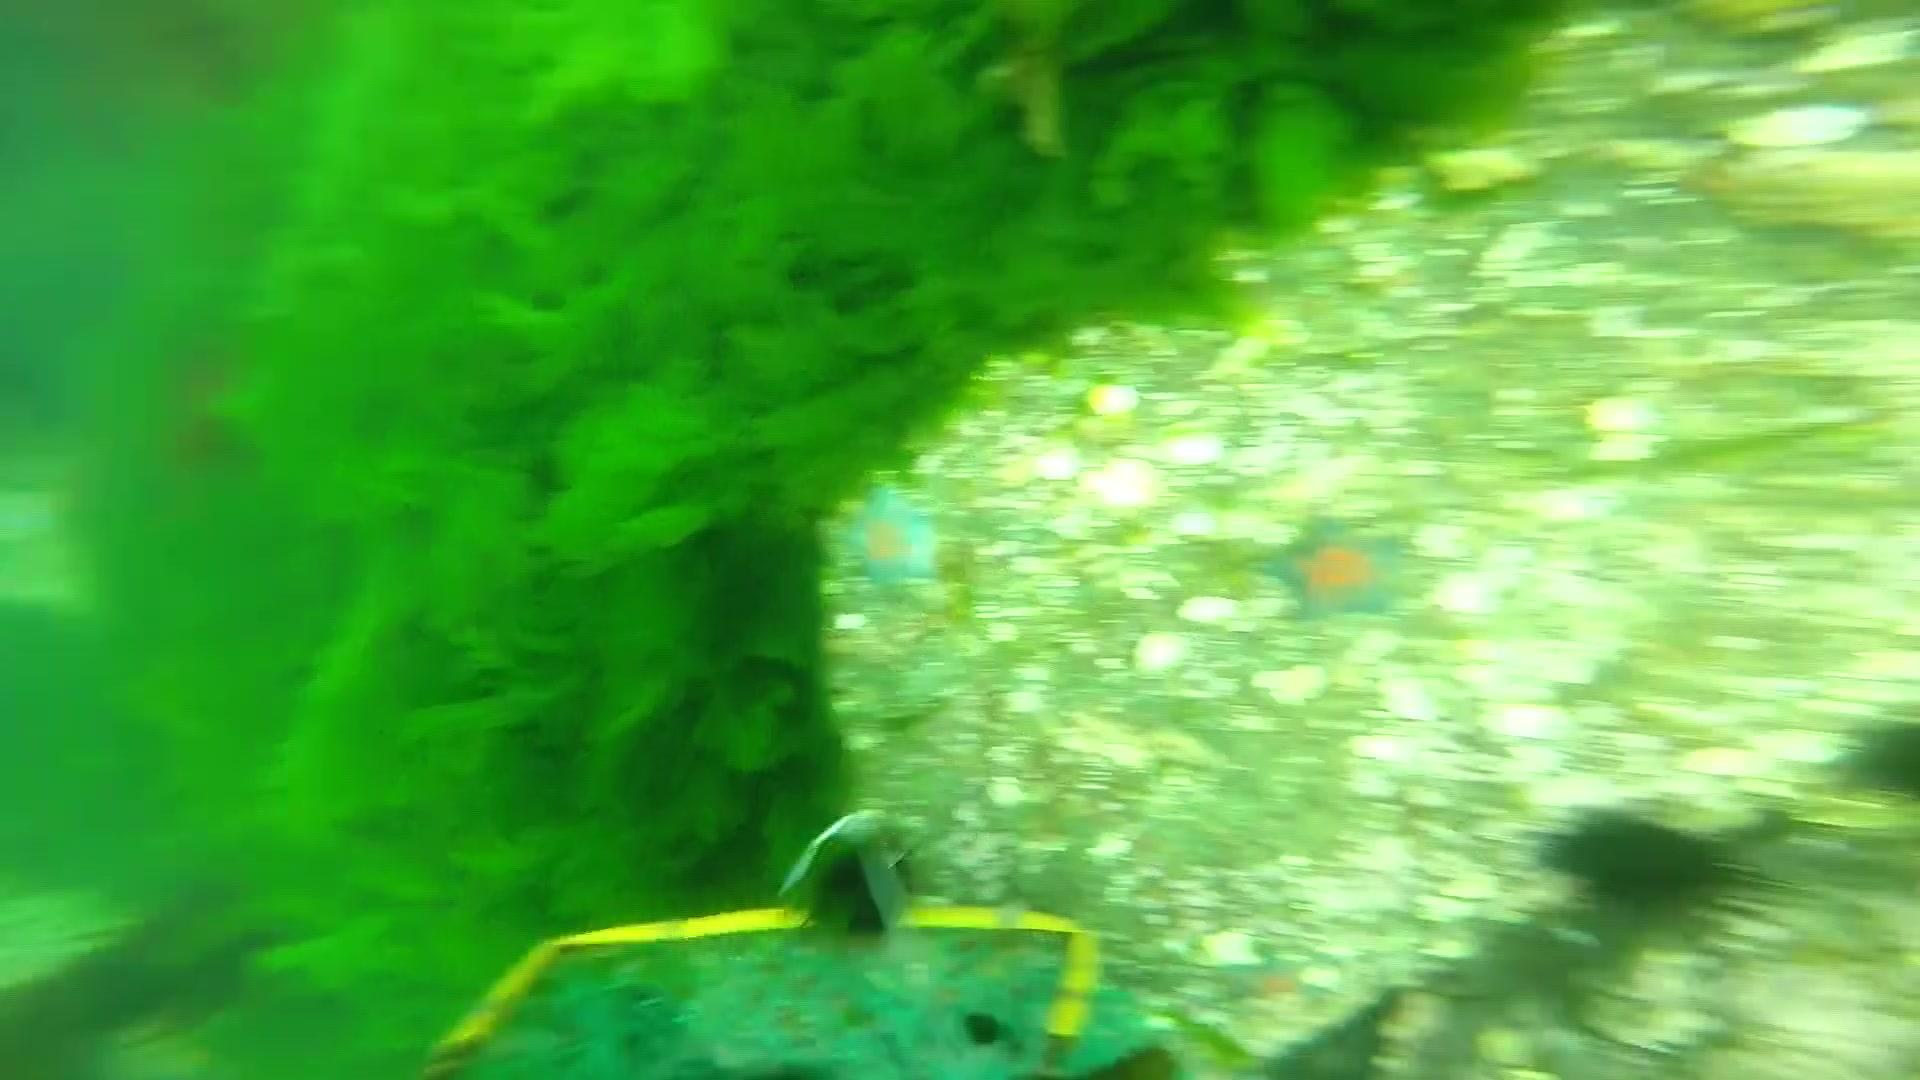echinus: (1530, 800, 1793, 936), (1833, 709, 1920, 814)
starfish: (1249, 516, 1427, 625), (833, 483, 953, 593)
